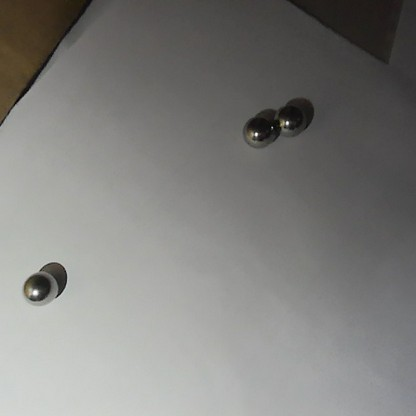ironball: (272, 101, 311, 136), (21, 271, 56, 306), (242, 114, 275, 150)
